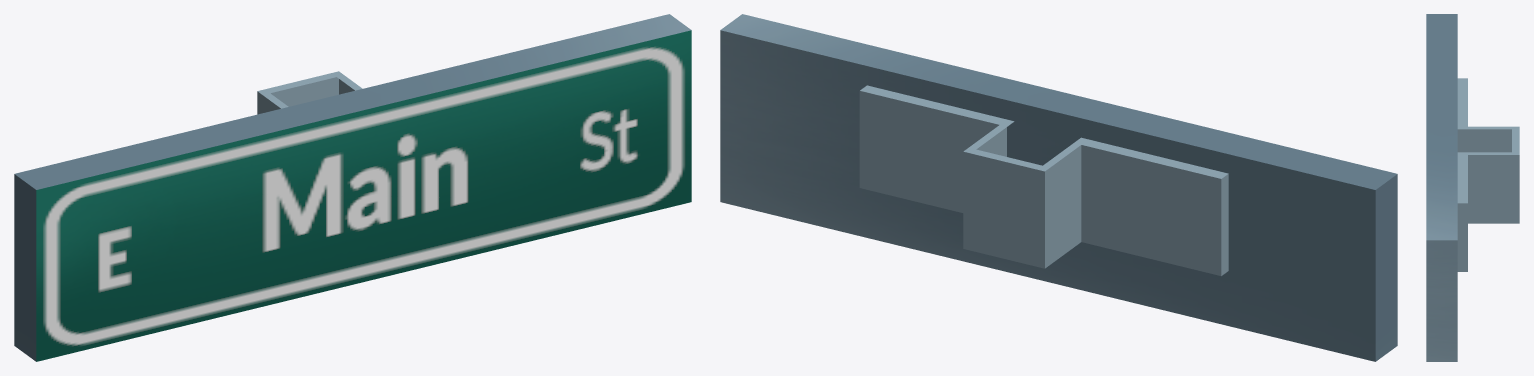
The model's file is Sign78.fbx.
3 views of the same model, side by side, from view 1: azimuth 30°, elevation 25°; view 2: azimuth 150°, elevation 25°; view 3: azimuth 270°, elevation 25° (orthographic). The views are drawn at different scales.
Visible parts, largest first — view 1: Sign78; view 2: Sign78; view 3: Sign78.
Boxes of the visible parts, x1,y1,x2,y2 form: Sign78: (14, 14, 691, 361); Sign78: (720, 14, 1397, 361); Sign78: (1426, 14, 1519, 361).
Size of the model in its own units: 0.8539 by 0.1489 by 0.214.
